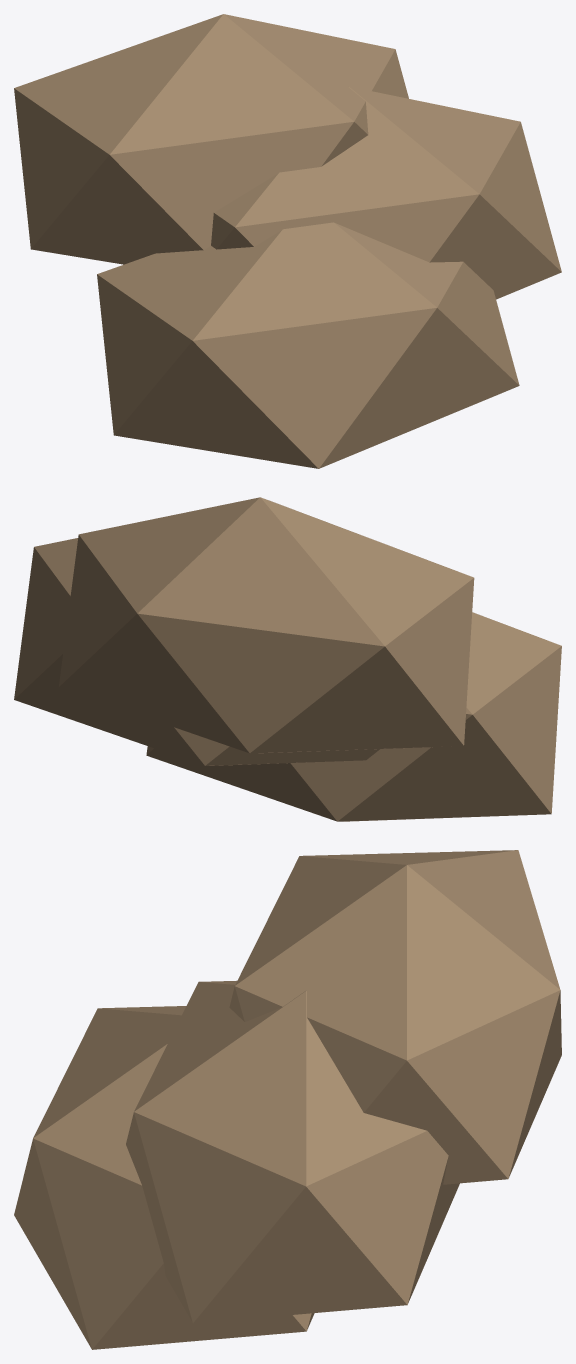
Rendered from item_027_roasted_roots_m.glb.
The picture shows the model from 3 angles, top to bottom: view 1: azimuth 30°, elevation 25°; view 2: azimuth 150°, elevation 25°; view 3: azimuth 270°, elevation 25°; orthographic projection. The views are drawn at different scales.
Parts seen in each view (by area): view 1: item_027_roasted_roots_m; view 2: item_027_roasted_roots_m; view 3: item_027_roasted_roots_m.
Boxes of the visible parts, x1,y1,x2,y2 form: item_027_roasted_roots_m: (14, 14, 561, 468); item_027_roasted_roots_m: (14, 497, 561, 821); item_027_roasted_roots_m: (14, 850, 561, 1349).
Size of the model in its own units: 0.3746 by 0.2934 by 0.326.
